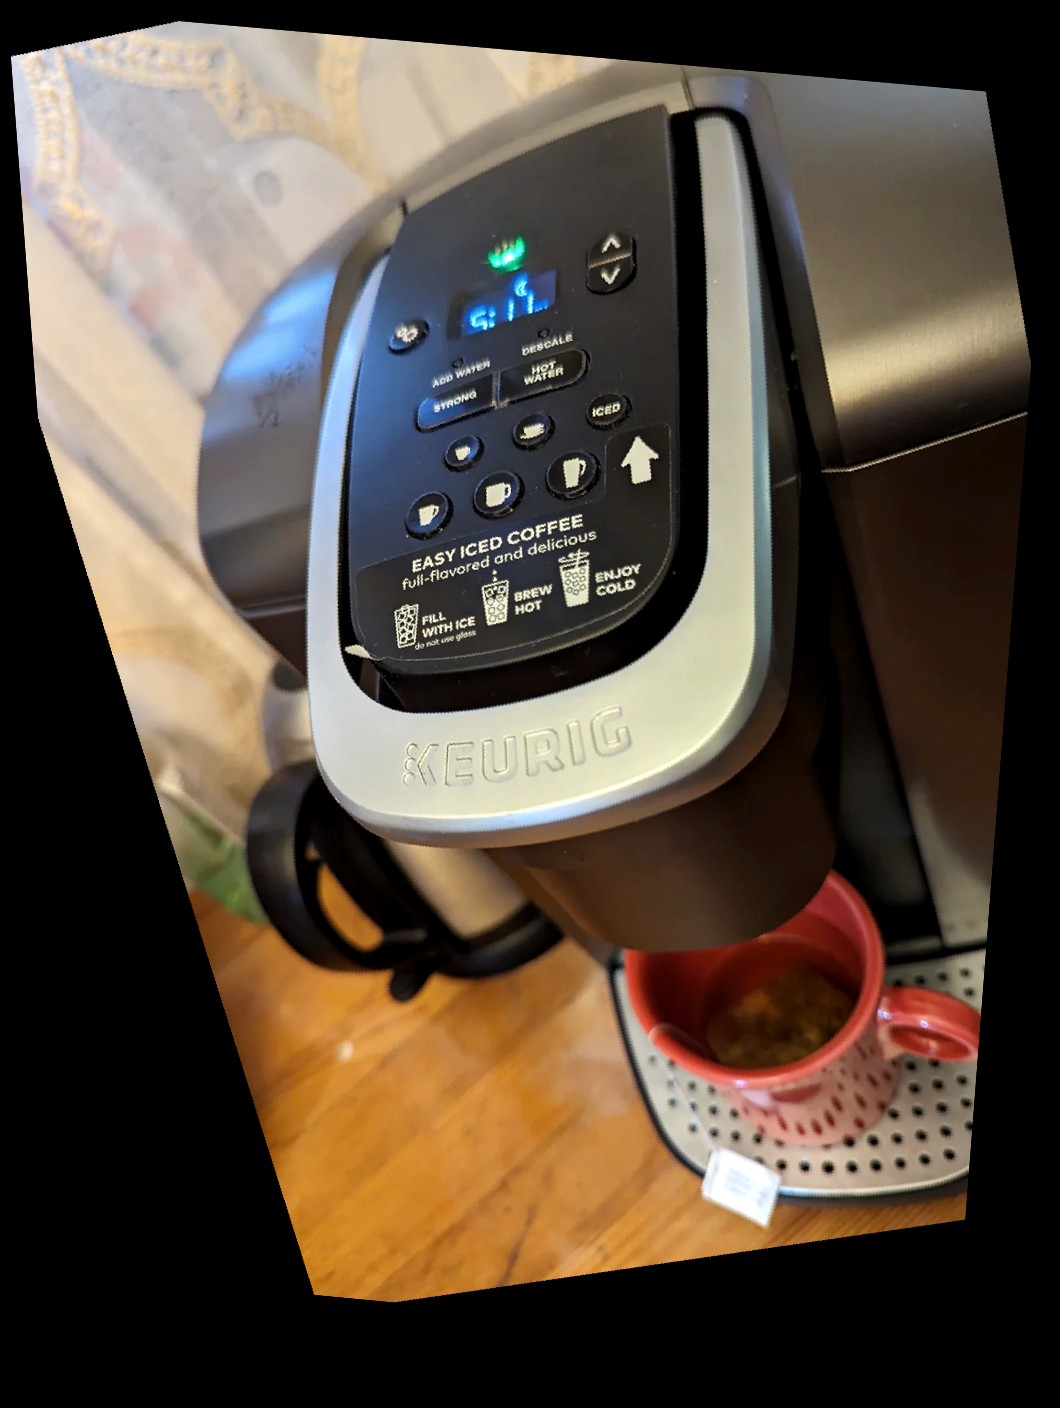10oz: (460, 462, 533, 530)
12oz: (536, 440, 610, 509)
4oz: (432, 426, 493, 477)
6oz: (504, 405, 566, 456)
8oz: (390, 481, 464, 549)
add_water: (423, 342, 498, 393)
coffee_handle: (383, 779, 662, 863)
descale: (507, 314, 580, 364)
hot: (498, 346, 591, 403)
iced: (575, 382, 640, 439)
power: (482, 230, 534, 269)
strong: (409, 374, 502, 431)
